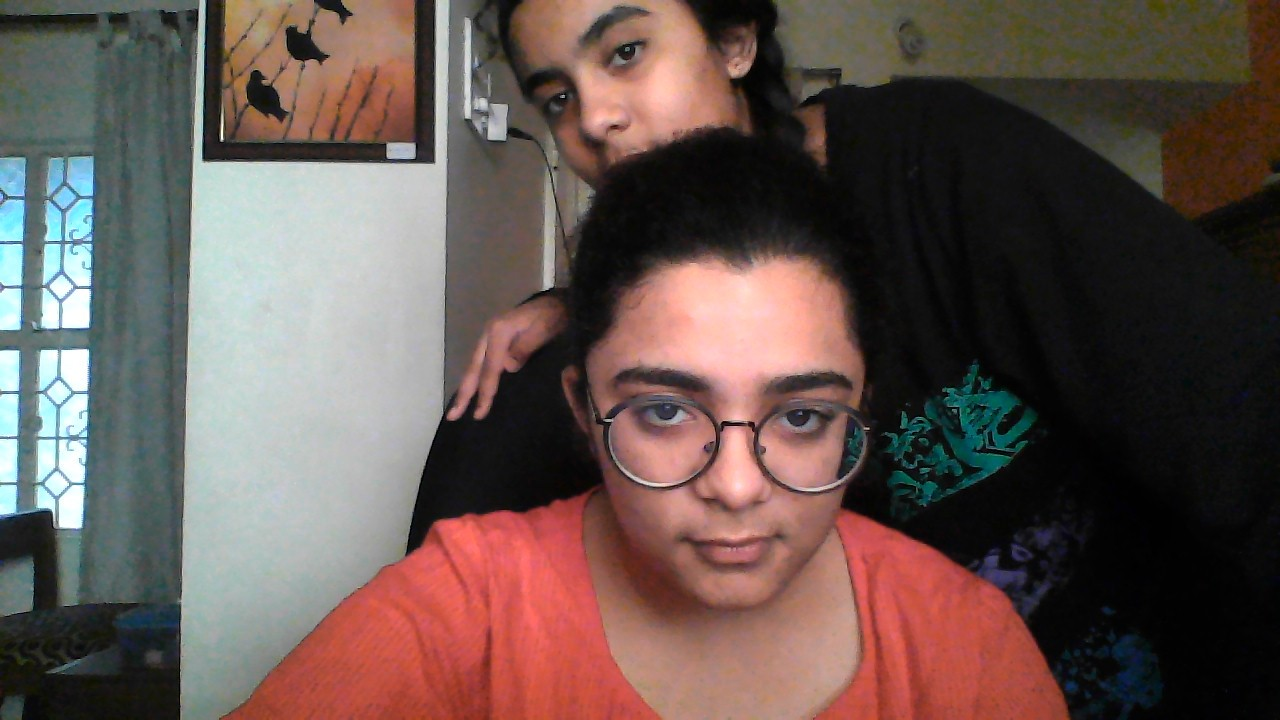person: (575, 155, 919, 681), (460, 2, 786, 177)
